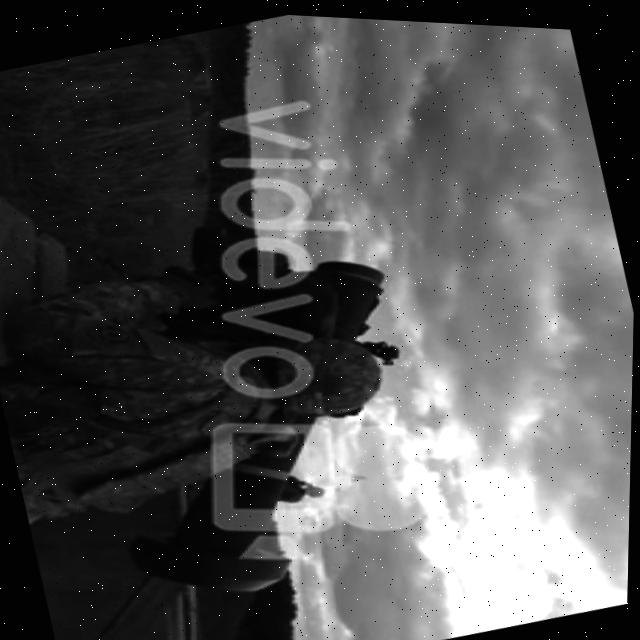rocket: (86, 369, 351, 637)
